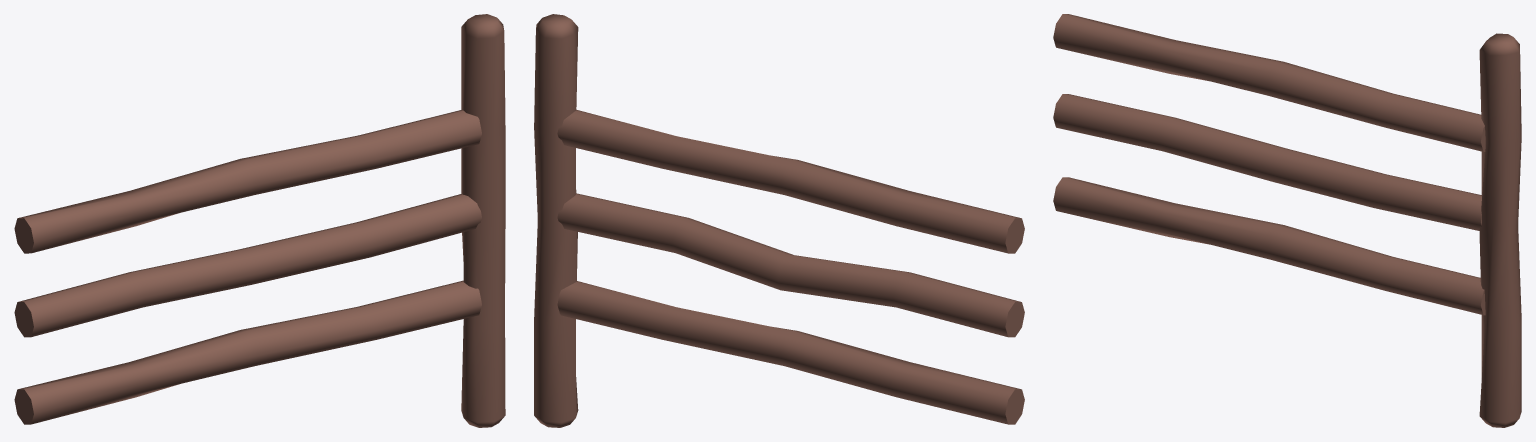
File: Fence_01.fbx
The picture shows the model from 3 angles, left to right: view 1: azimuth 30°, elevation 25°; view 2: azimuth 150°, elevation 25°; view 3: azimuth 330°, elevation 25°; orthographic projection. The views are drawn at different scales.
Parts seen in each view (by area): view 1: SM_B02_Wood_57, SM_B02_Wood_58, SM_B02_Wood_56, SM_B02_Wood_59; view 2: SM_B02_Wood_57, SM_B02_Wood_56, SM_B02_Wood_58, SM_B02_Wood_59; view 3: SM_B02_Wood_57, SM_B02_Wood_58, SM_B02_Wood_56, SM_B02_Wood_59.
Boxes of the visible parts, left/top/right/bottom form: SM_B02_Wood_57: left=14, top=194, right=481, bottom=337; SM_B02_Wood_58: left=14, top=110, right=481, bottom=253; SM_B02_Wood_56: left=14, top=280, right=481, bottom=424; SM_B02_Wood_59: left=461, top=14, right=505, bottom=427; SM_B02_Wood_57: left=557, top=193, right=1024, bottom=337; SM_B02_Wood_56: left=557, top=281, right=1024, bottom=424; SM_B02_Wood_58: left=557, top=109, right=1024, bottom=253; SM_B02_Wood_59: left=534, top=14, right=578, bottom=427; SM_B02_Wood_57: left=1053, top=94, right=1481, bottom=230; SM_B02_Wood_58: left=1053, top=14, right=1485, bottom=151; SM_B02_Wood_56: left=1053, top=177, right=1485, bottom=315; SM_B02_Wood_59: left=1479, top=33, right=1521, bottom=427.
Size of the model in its own units: 1.18 by 0.9494 by 0.1125.
